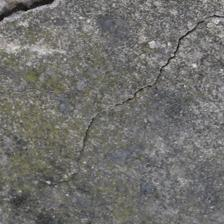Crack: (31, 7, 189, 175)
